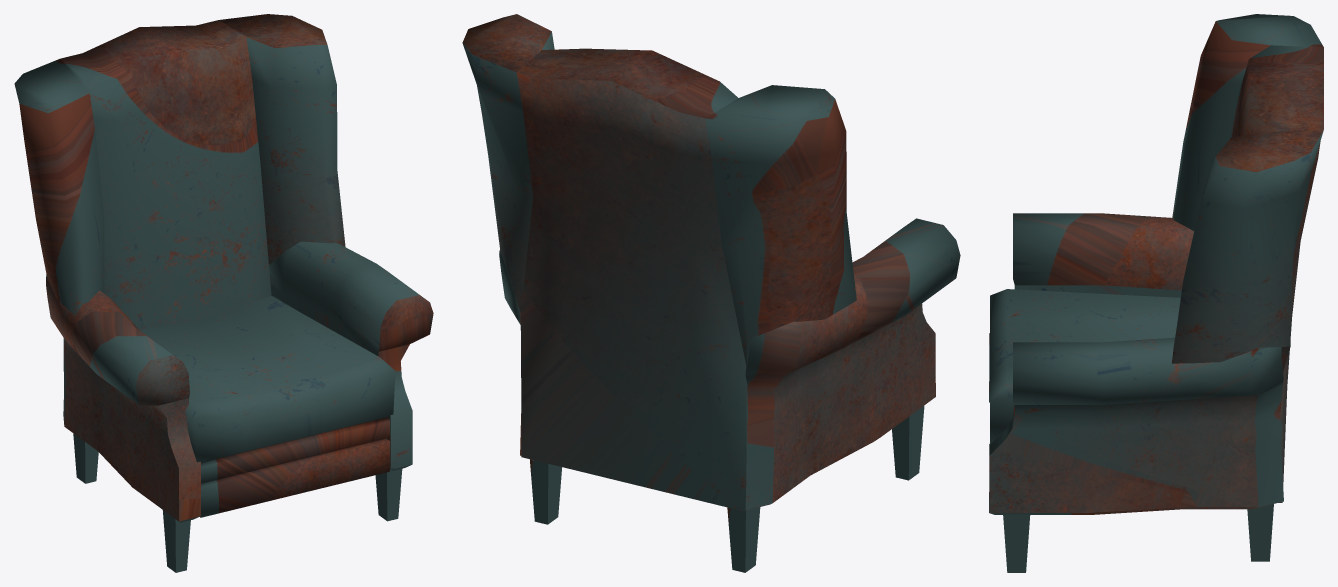
Rendered from Fauteuil.fbx.
3 views of the same model, side by side, from view 1: azimuth 30°, elevation 25°; view 2: azimuth 150°, elevation 25°; view 3: azimuth 270°, elevation 25° (orthographic). The views are drawn at different scales.
Visible parts, largest first — view 1: Chair; view 2: Chair; view 3: Chair.
Part boxes in pixels (<box>): Chair: <box>14,14,433,572</box>; Chair: <box>462,14,960,572</box>; Chair: <box>989,14,1323,572</box>.
Size of the model in its own units: 129 by 166 by 115.
